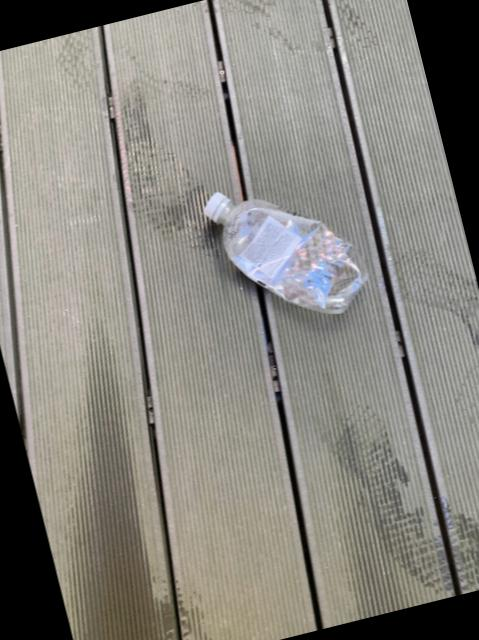plastic: (202, 190, 363, 312)
